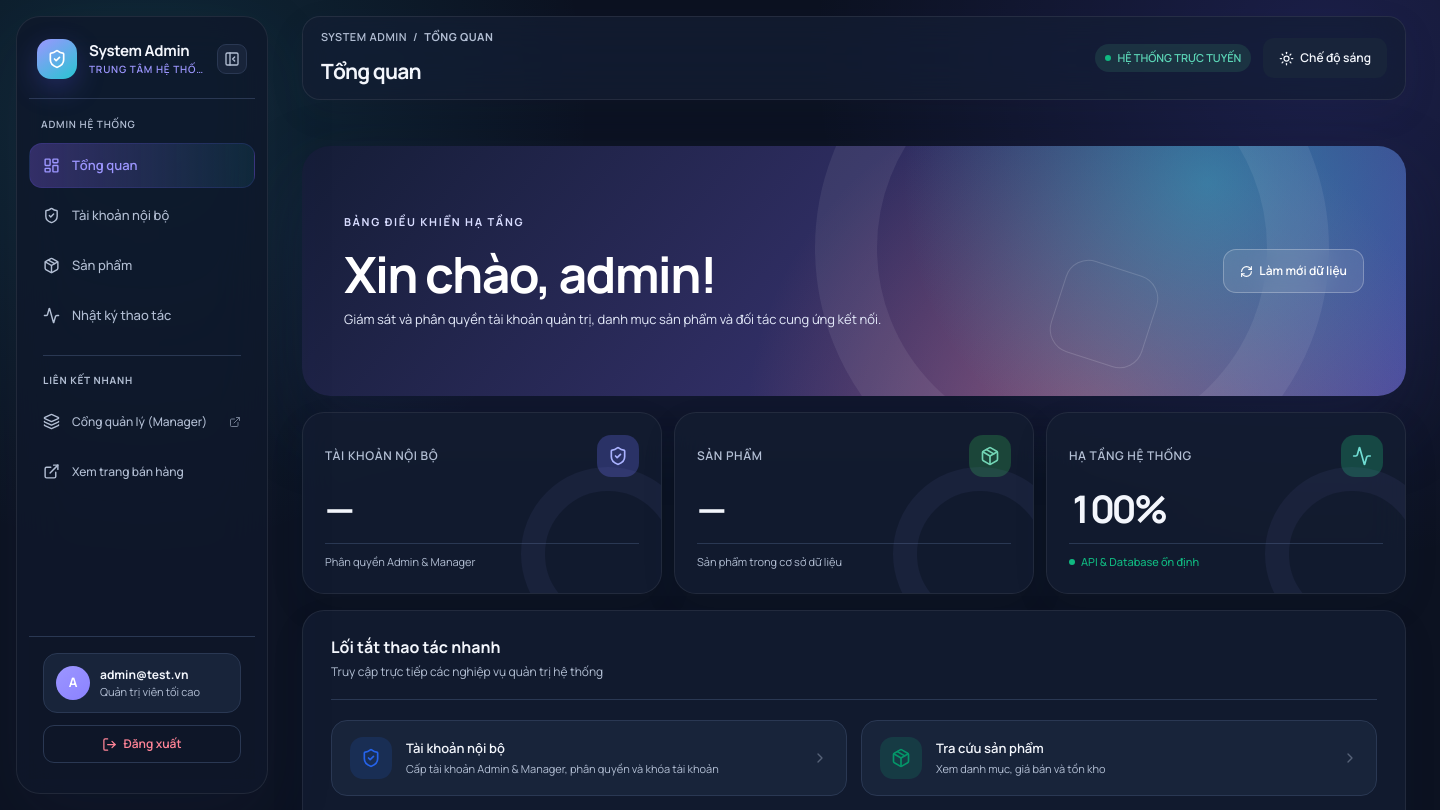
it: dashboard shortcut opens its own function: Cấp tài khoản Admin & Manager
Click the link "Cấp tài khoản Admin & Manager" at (371, 758), box [331, 720, 847, 796]
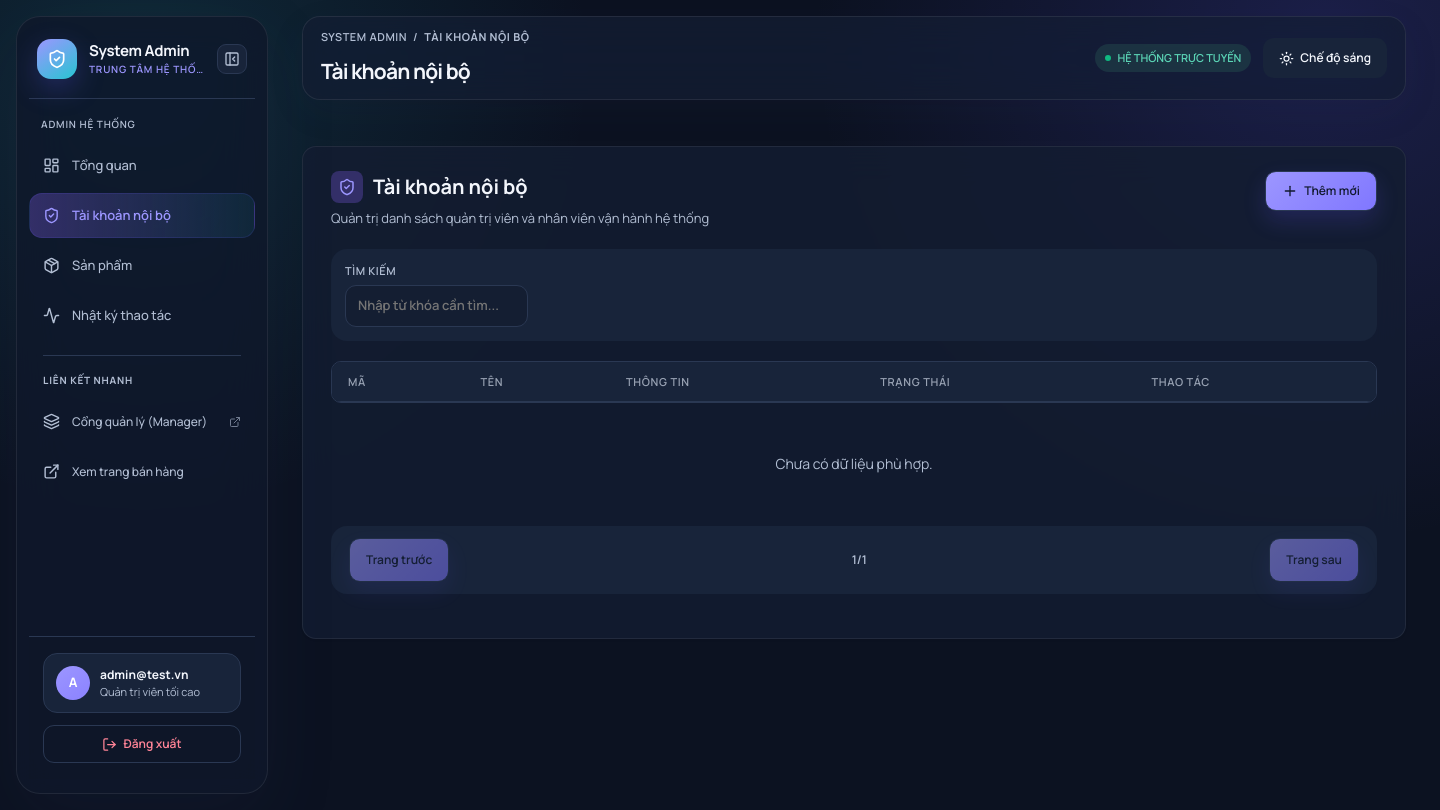
Expected: the text "Chưa có dữ liệu phù hợp." is shown, [776, 454, 932, 473]
